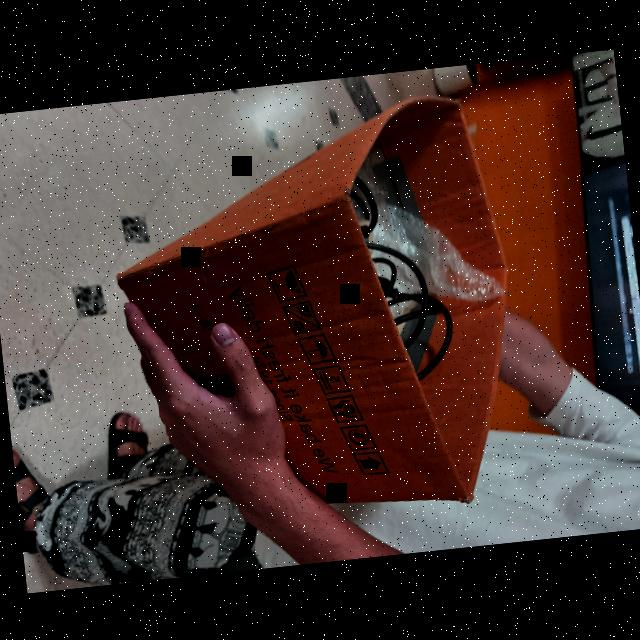cardboard_box: (102, 79, 539, 537)
